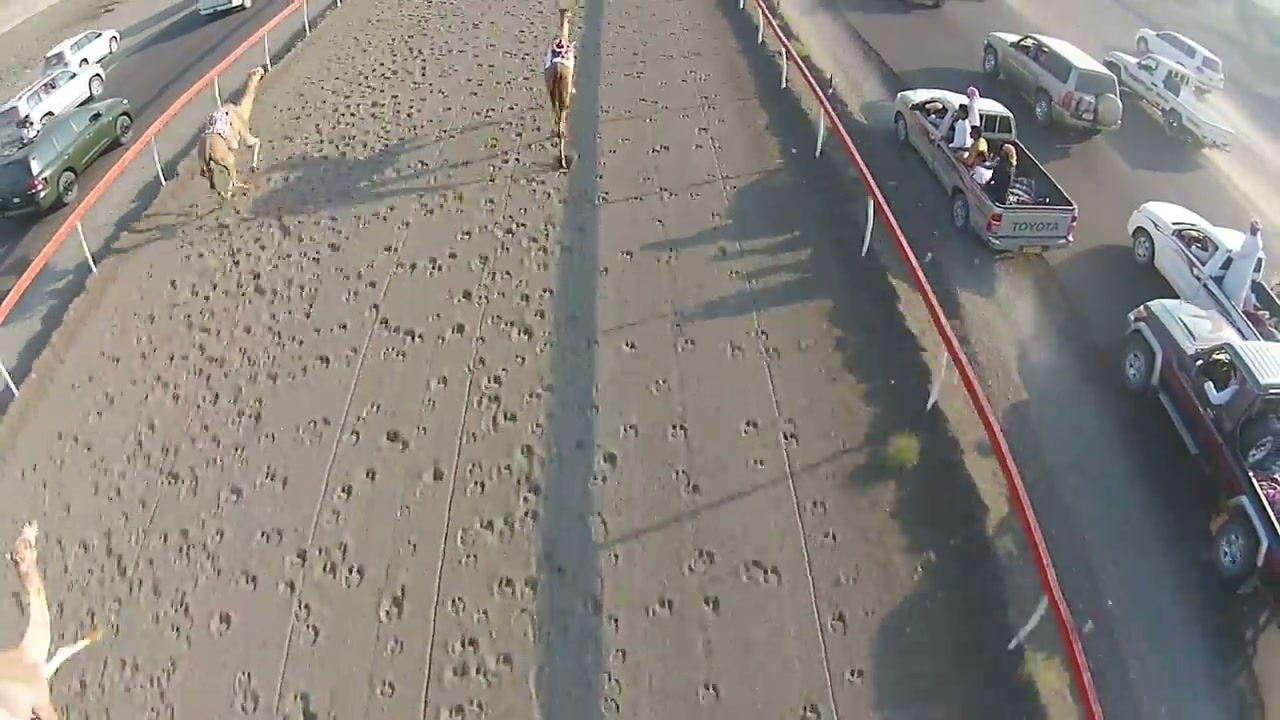animal_footprint: (66, 151, 328, 693), (424, 160, 569, 688)
